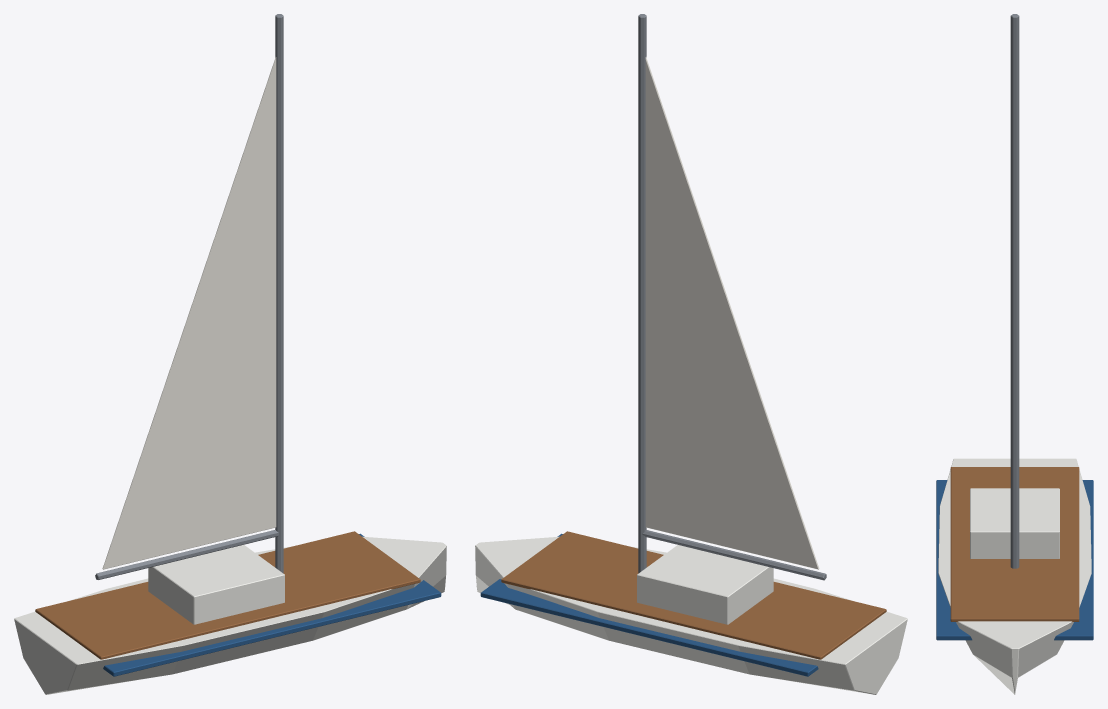
Rendered from segelbat.glb.
3 renders of one model, left to right at view 1: azimuth 30°, elevation 25°; view 2: azimuth 150°, elevation 25°; view 3: azimuth 270°, elevation 25°, orthographic. The views are drawn at different scales.
Parts seen in each view (by area): view 1: segelbat; view 2: segelbat; view 3: segelbat.
Boxes of the visible parts, x1,y1,x2,y2 form: segelbat: [14, 14, 446, 694]; segelbat: [475, 14, 907, 694]; segelbat: [936, 14, 1093, 694].
Size of the model in its own units: 7 by 10.55 by 2.45.
